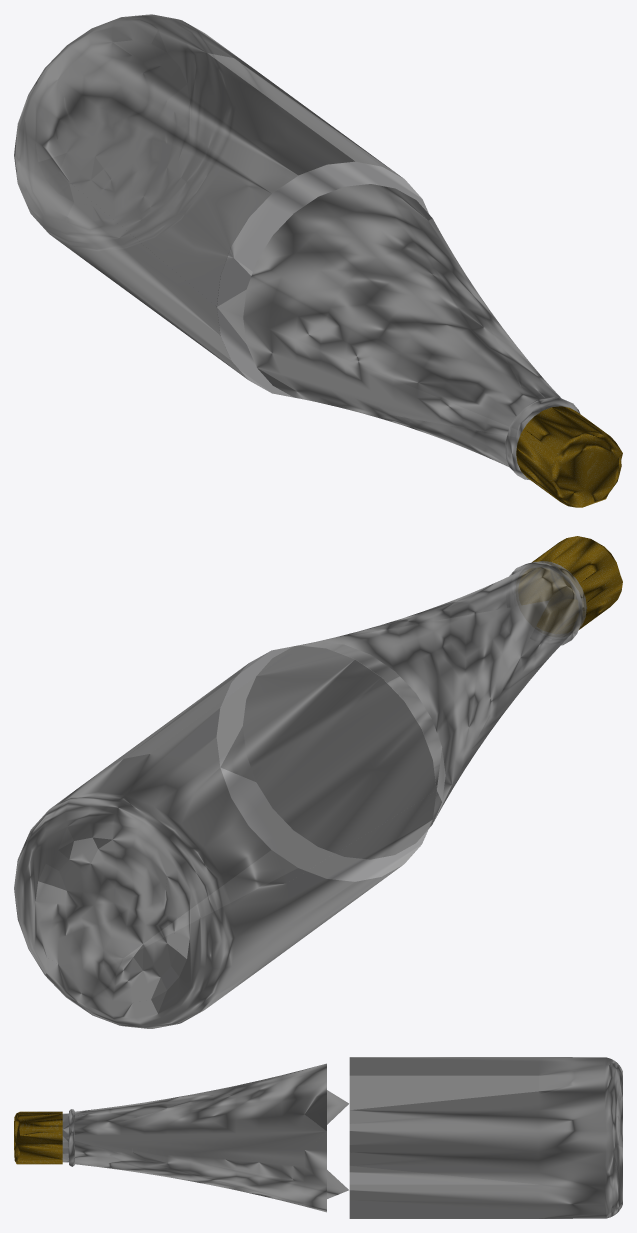
The model's file is model_align.obj.
3 views of the same model, one above another, from view 1: azimuth 30°, elevation 25°; view 2: azimuth 150°, elevation 25°; view 3: azimuth 270°, elevation 25° (orthographic). The views are drawn at different scales.
Size of the model in its own units: 0.0652 by 0.0652 by 0.2446.
